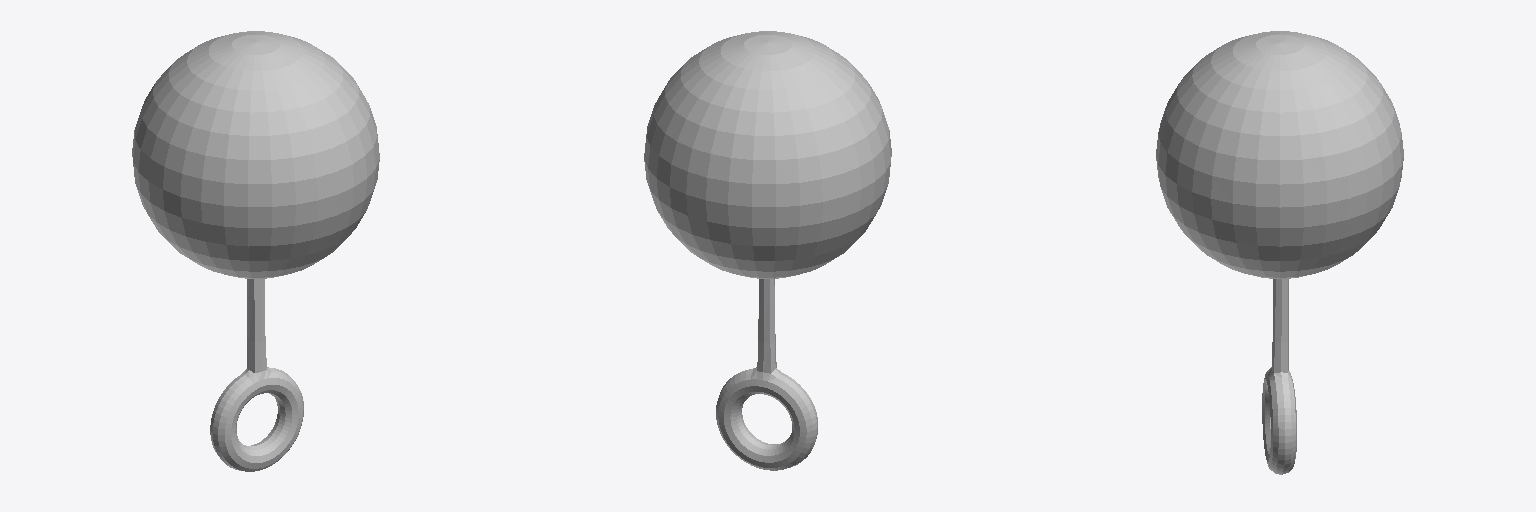
The model's file is Chocalho.obj.
3 views of the same model, side by side, from view 1: azimuth 30°, elevation 25°; view 2: azimuth 150°, elevation 25°; view 3: azimuth 270°, elevation 25° (orthographic).
Visible parts, largest first — view 1: Baby_Cabela_Psychic_Baby_Rattle__Of_The_Wishers_Gifts:Mesh; view 2: Baby_Cabela_Psychic_Baby_Rattle__Of_The_Wishers_Gifts:Mesh; view 3: Baby_Cabela_Psychic_Baby_Rattle__Of_The_Wishers_Gifts:Mesh.
Boxes of the visible parts, x1=… form: Baby_Cabela_Psychic_Baby_Rattle__Of_The_Wishers_Gifts:Mesh: x1=132, y1=31, x2=379, y2=471; Baby_Cabela_Psychic_Baby_Rattle__Of_The_Wishers_Gifts:Mesh: x1=644, y1=31, x2=891, y2=470; Baby_Cabela_Psychic_Baby_Rattle__Of_The_Wishers_Gifts:Mesh: x1=1156, y1=31, x2=1403, y2=474.
Bounding box in the file's own units: 0.0846 × 0.1604 × 0.0846.